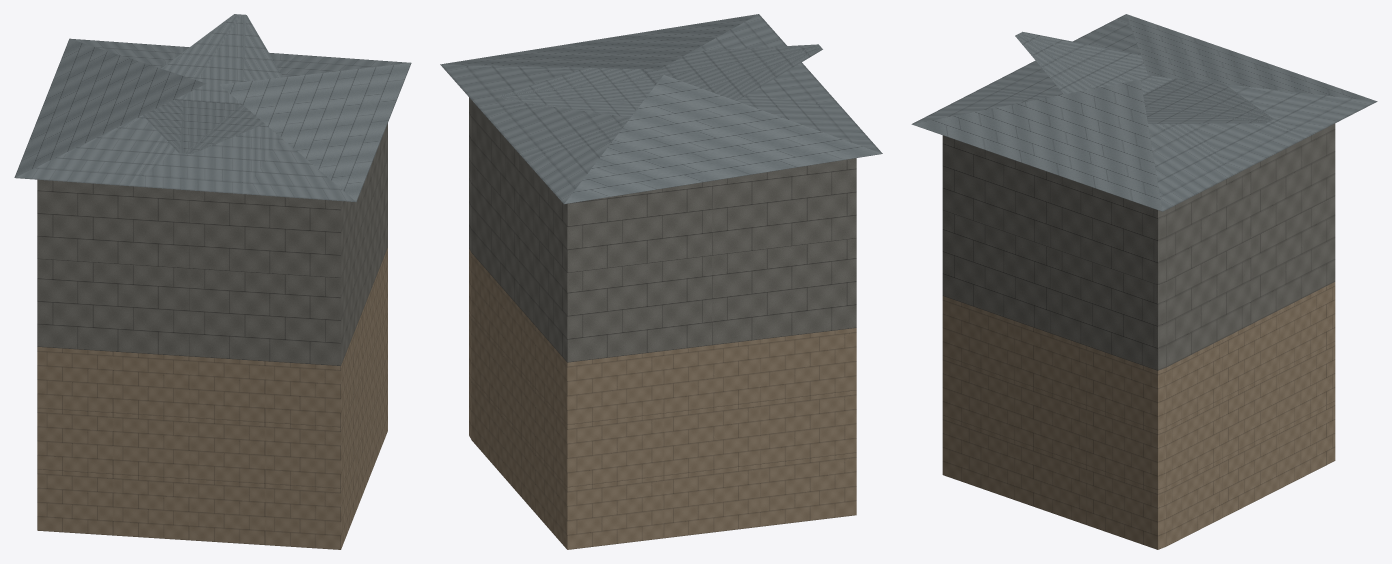
File: bld_c0_-10_618.gltf
The picture shows the model from 3 angles, left to right: view 1: azimuth 30°, elevation 25°; view 2: azimuth 150°, elevation 25°; view 3: azimuth 270°, elevation 25°; orthographic projection. The views are drawn at different scales.
Parts seen in each view (by area): view 1: bld_c0_-10_618; view 2: bld_c0_-10_618; view 3: bld_c0_-10_618.
Part boxes in pixels (bbox=[...]): bld_c0_-10_618: bbox=[14, 14, 411, 549]; bld_c0_-10_618: bbox=[440, 14, 882, 549]; bld_c0_-10_618: bbox=[911, 14, 1377, 549].
Bounding box in the file's own units: 11.98 × 10.9 × 11.94.
Materials: 3 (3 with a texture image).
